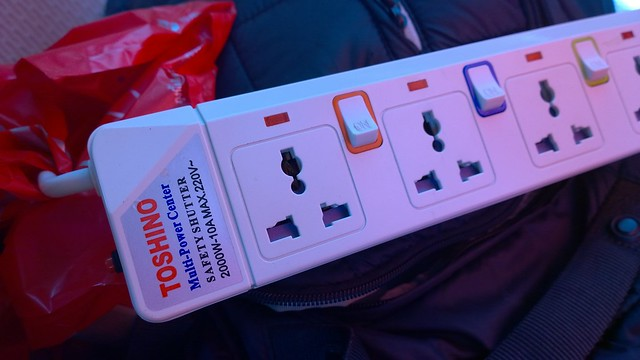Three_eye_plug: (85, 9, 640, 325)
